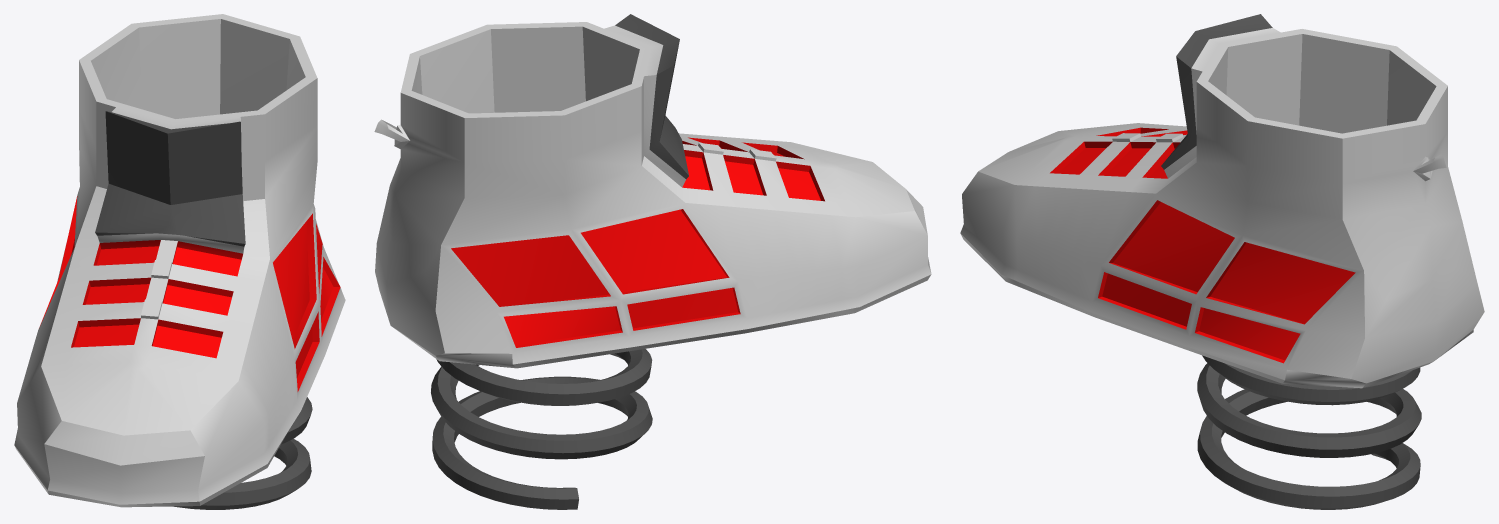
The model's file is Spring Boots.FBX.
3 views of the same model, side by side, from view 1: azimuth 30°, elevation 25°; view 2: azimuth 150°, elevation 25°; view 3: azimuth 270°, elevation 25° (orthographic). The views are drawn at different scales.
Parts seen in each view (by area): view 1: Box001; view 2: Box001; view 3: Box001.
Boxes of the visible parts, x1,y1,x2,y2 form: Box001: [14, 14, 345, 509]; Box001: [374, 14, 931, 509]; Box001: [960, 14, 1484, 509].
Size of the model in its own units: 28.77 by 27.73 by 31.42.
